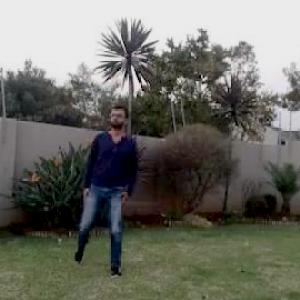follow: (77, 94, 139, 282)
